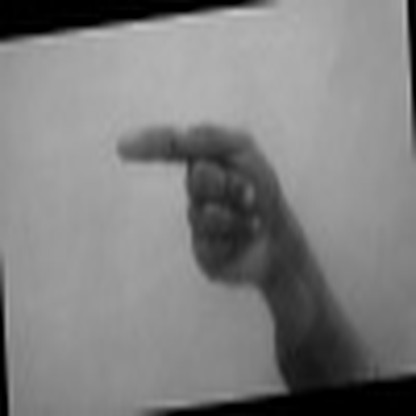g: (114, 112, 298, 286)
